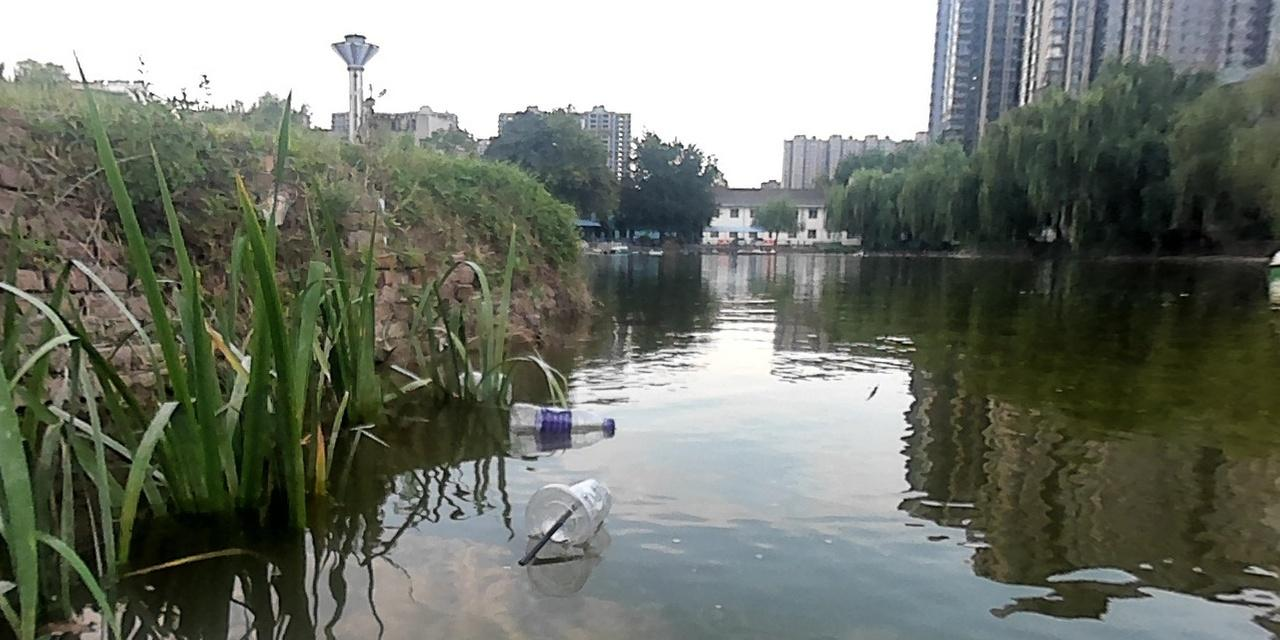bottle: (517, 470, 609, 546), (503, 398, 615, 438)
